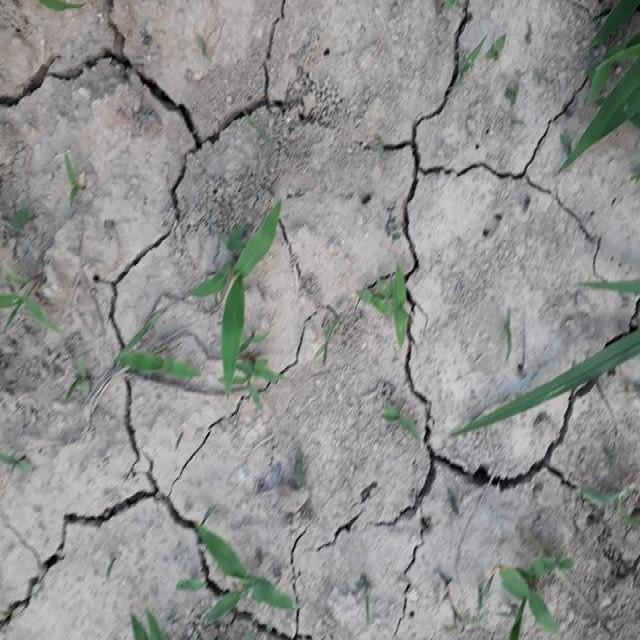weed: (177, 204, 286, 415), (483, 542, 578, 627)
